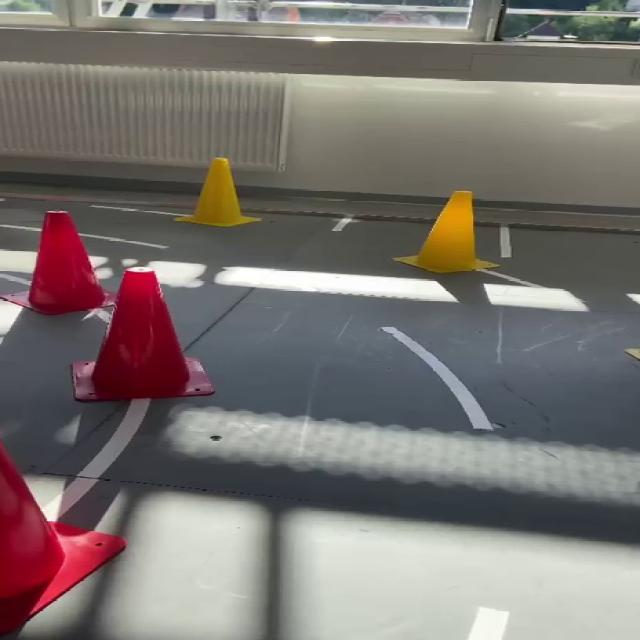Cone-red: (0, 442, 126, 634), (70, 268, 214, 401), (26, 211, 103, 314)
Cones-yellow: (393, 191, 498, 273), (175, 159, 261, 226), (625, 348, 639, 361)
